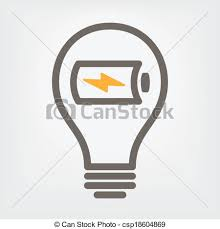charging sign: (66, 54, 153, 109)
